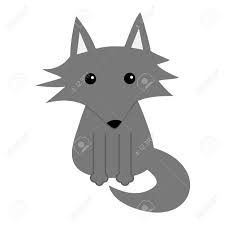Lobo: (34, 9, 213, 220)
